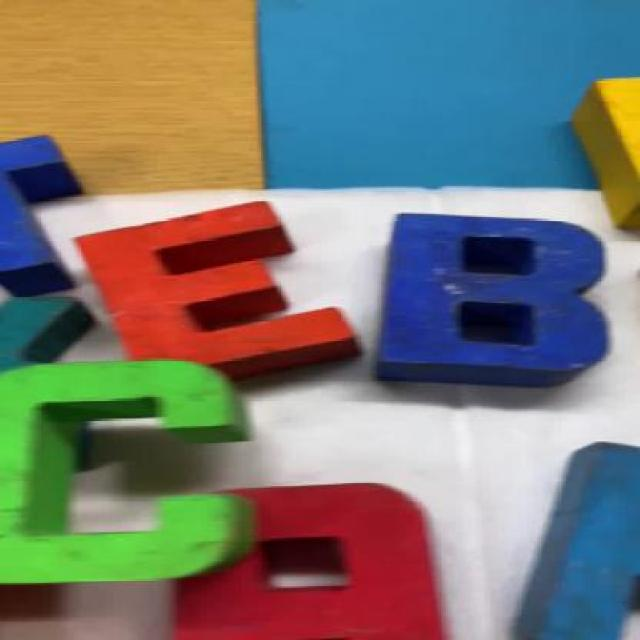B: (342, 202, 624, 402)
C: (0, 351, 258, 593)
E: (66, 199, 354, 384)
